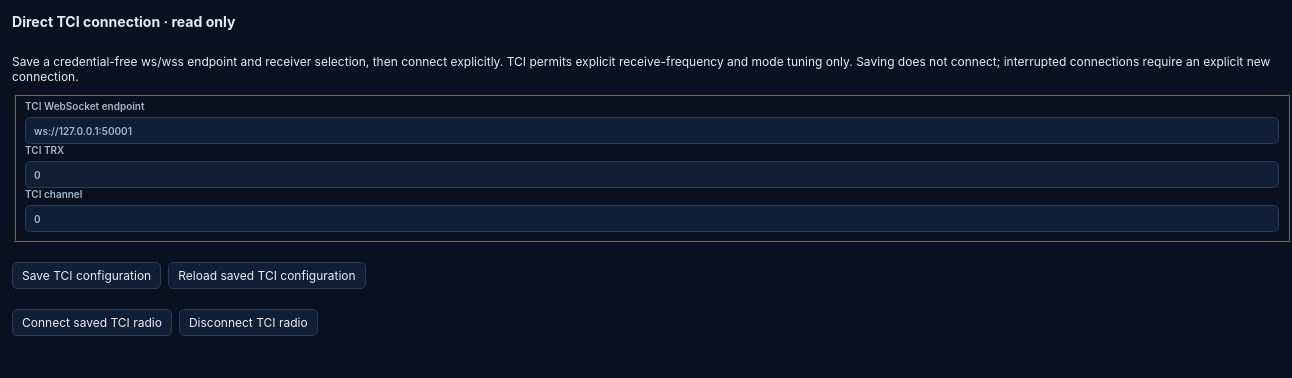
Test: TCI refuses invalid receiver index
Clear the number field named "Shared TCI channel": [652, 219] box [25, 205, 1279, 232]
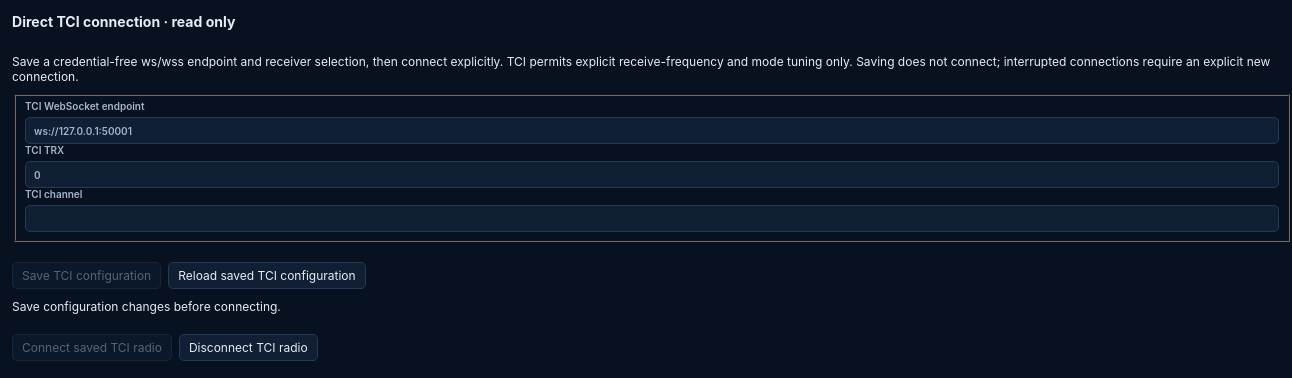
Check: the button "Save TCI configuration" is disabled, box [12, 262, 161, 289]
